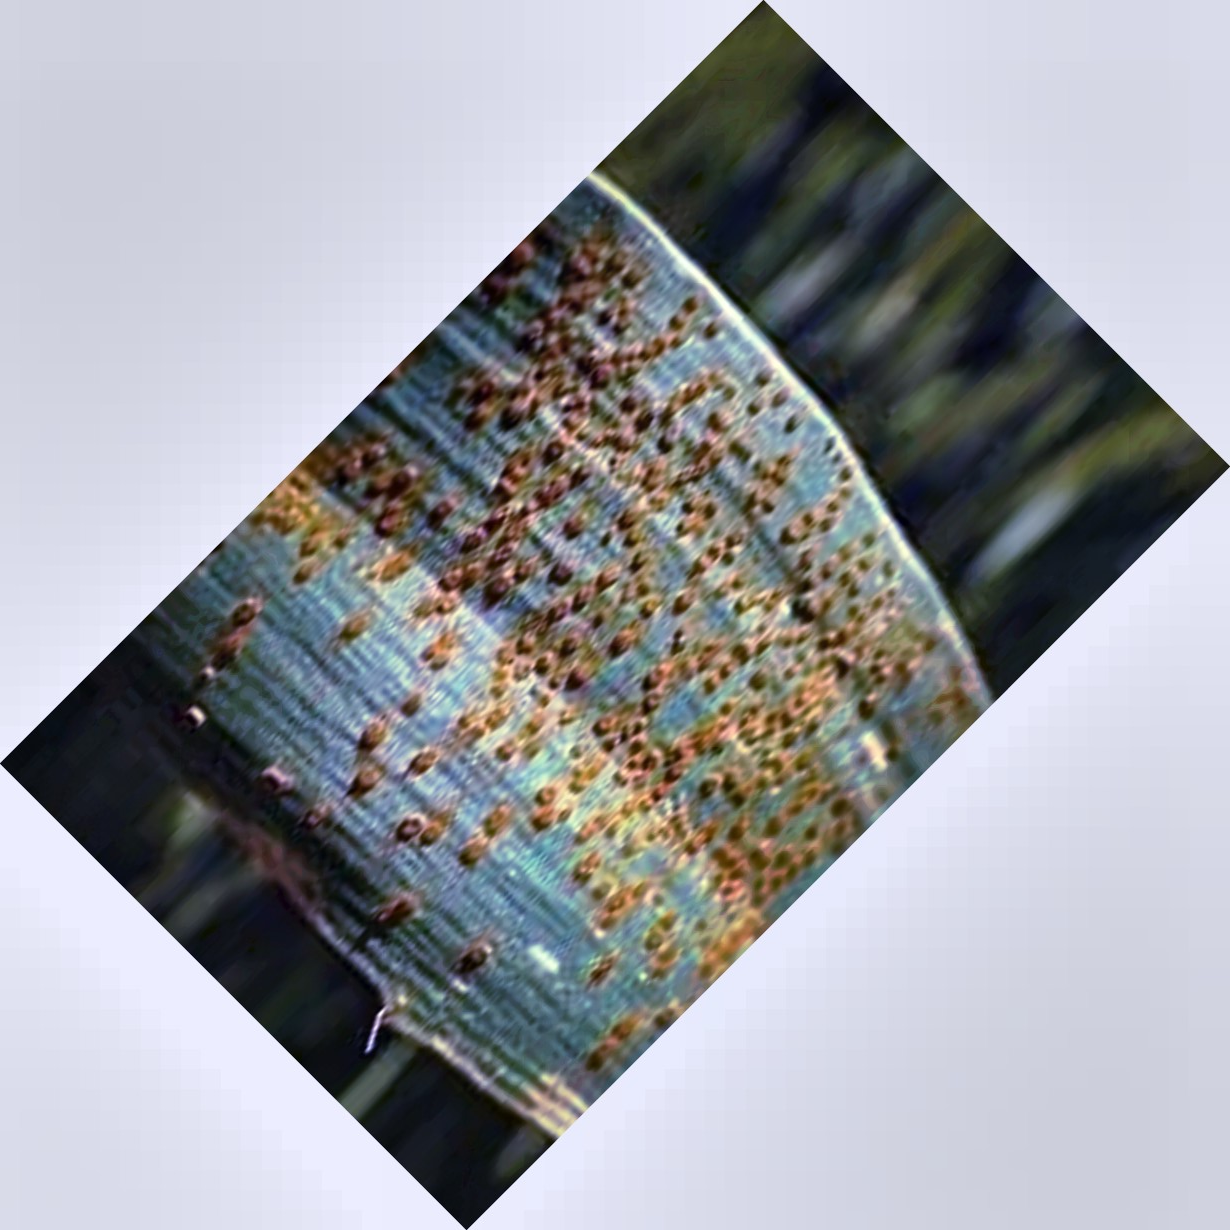Leaf Rust: (295, 323, 873, 921)
